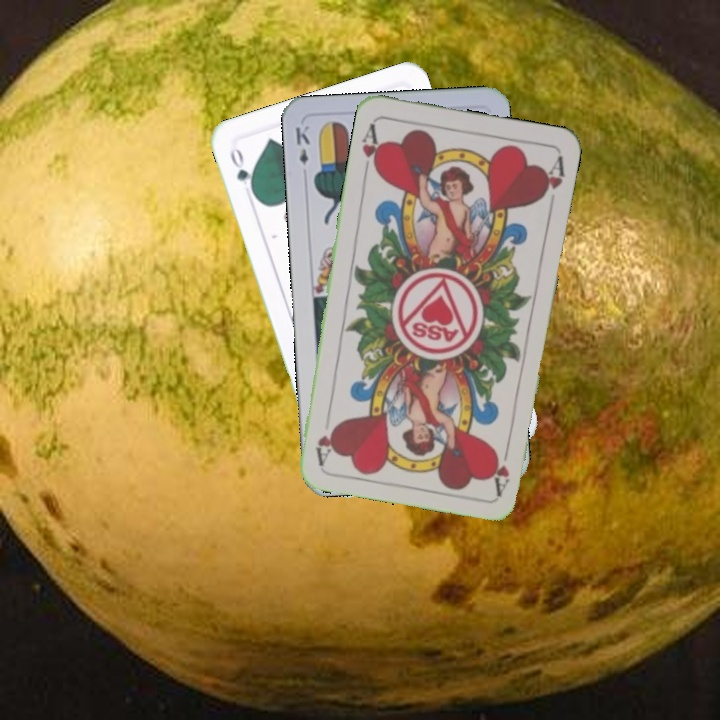EK: (291, 121, 312, 168)
GO: (226, 143, 258, 199)
HA: (358, 119, 385, 178), (487, 437, 512, 496)
